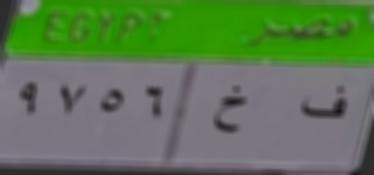5: (96, 86, 130, 120)
6: (140, 78, 167, 125)
7: (55, 79, 88, 121)
9: (14, 75, 43, 121)
faa: (296, 77, 354, 130)
khaa: (209, 84, 250, 140)
